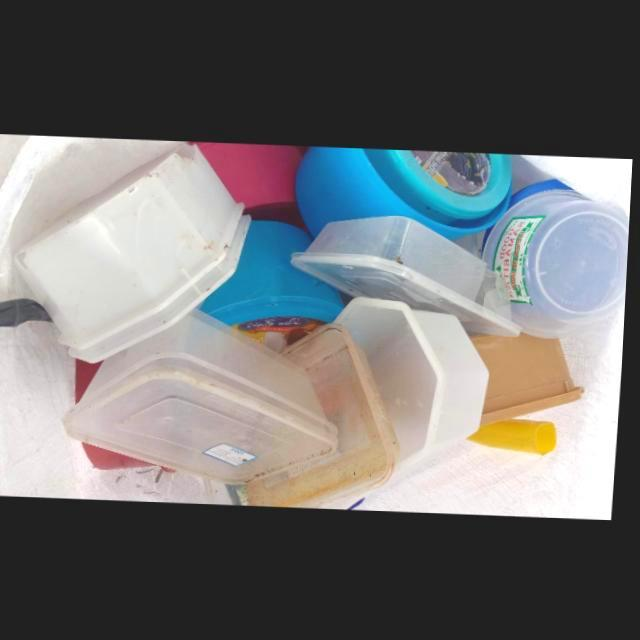plastic_container: (19, 141, 254, 363), (66, 308, 343, 480), (245, 321, 404, 507), (293, 212, 524, 334), (336, 294, 492, 472), (483, 179, 631, 331), (295, 145, 516, 239), (199, 219, 356, 351), (473, 330, 585, 421), (195, 141, 307, 226)
